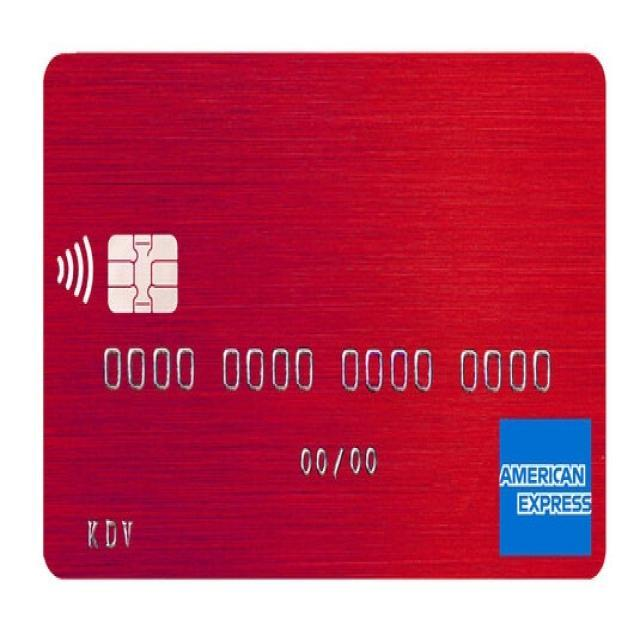payment_card: (41, 51, 607, 580)
